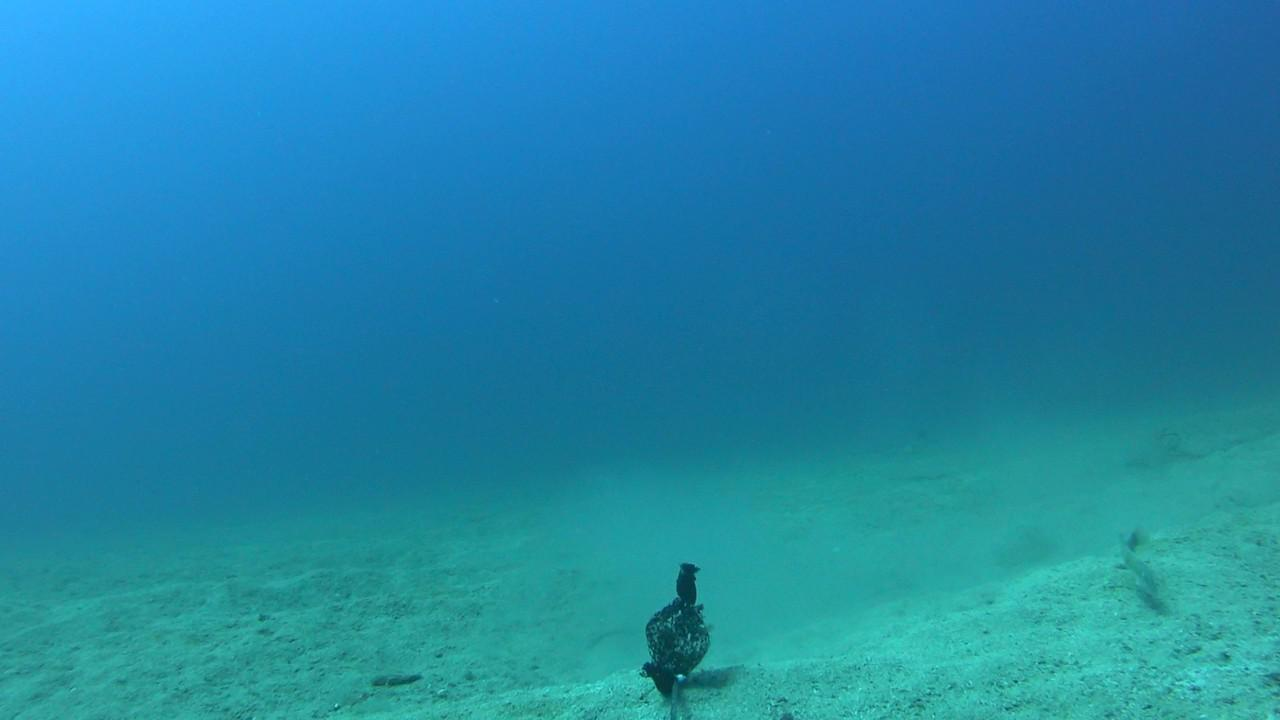myliobatis: (859, 421, 939, 467)
